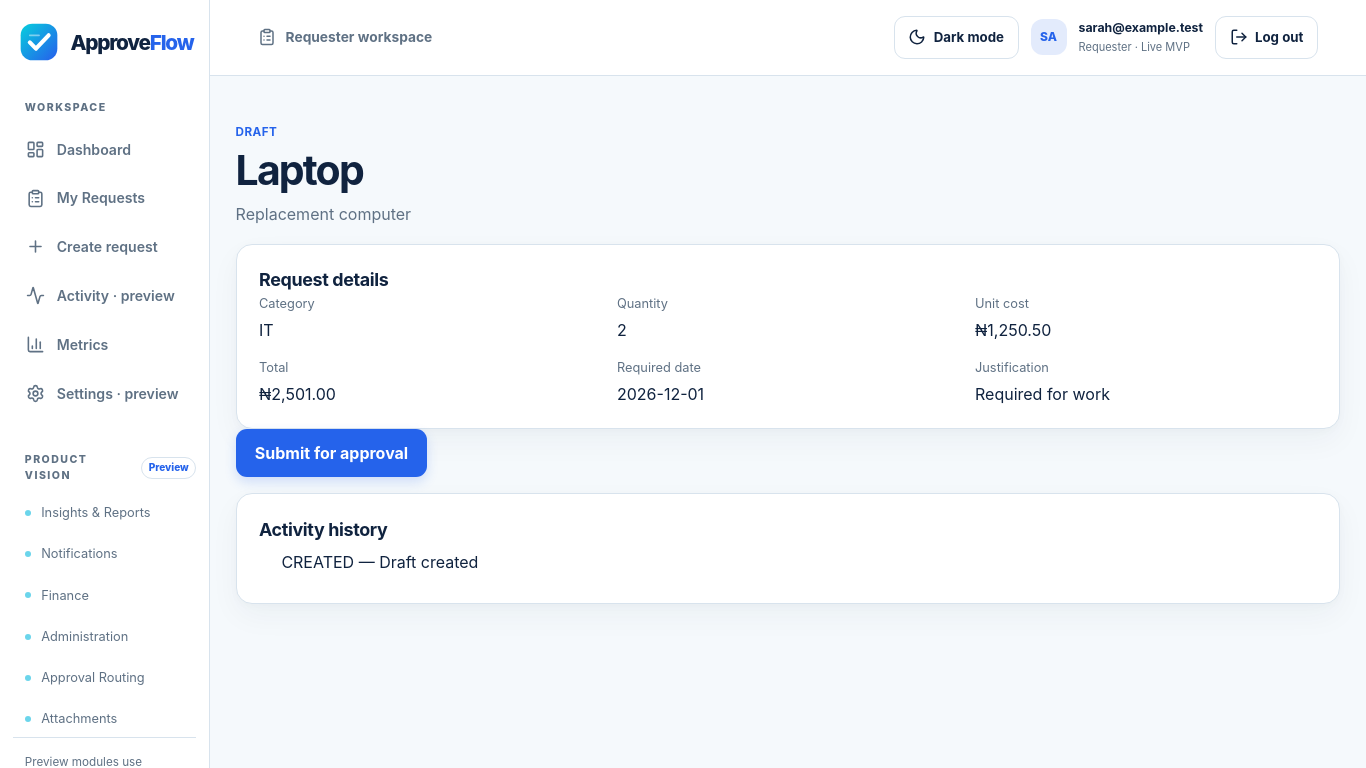
Test case: G3 user journeys › retains PENDING_APPROVAL after submission despite an older detail fixture
This screenshot has width=1366, height=768.
Click the button "Submit for approval" at (332, 453), box [236,429,427,477]
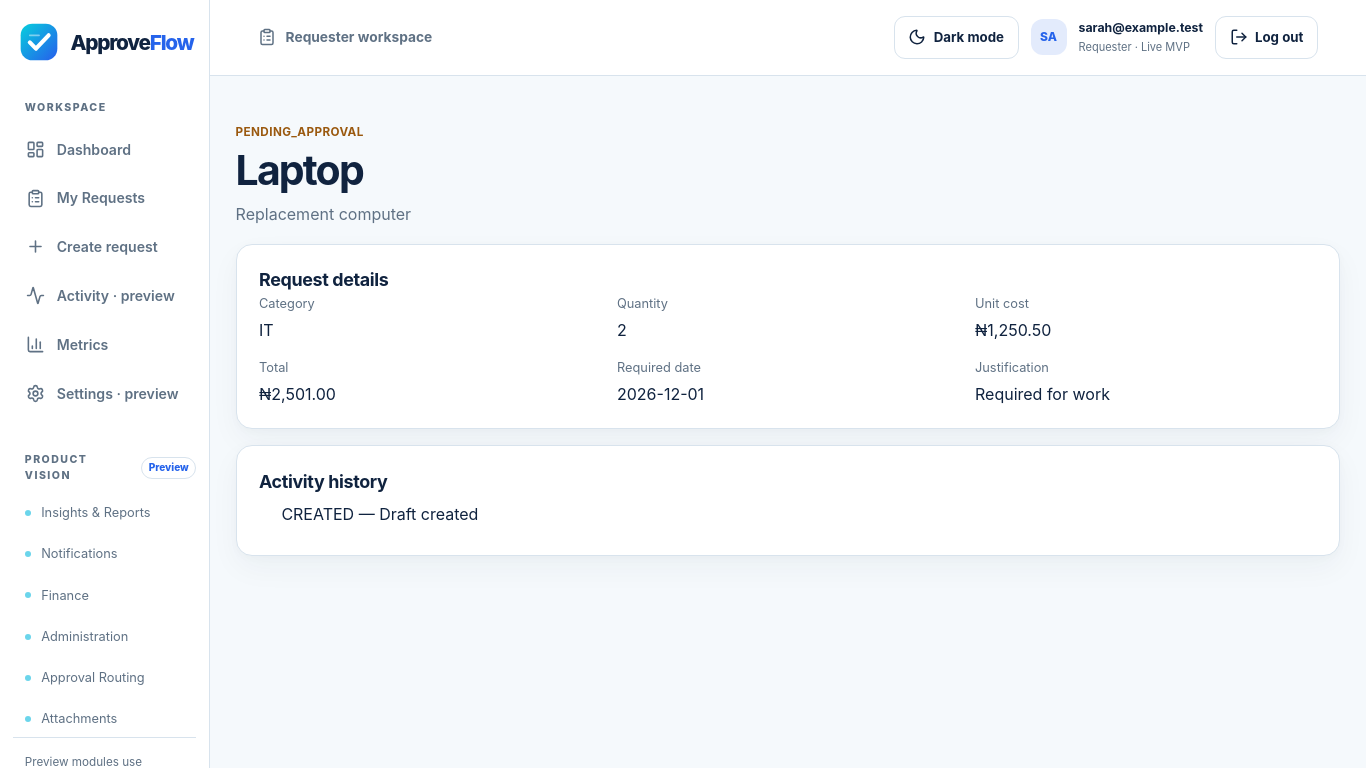
Result: the text "PENDING_APPROVAL" is shown at [236,124,364,141]
